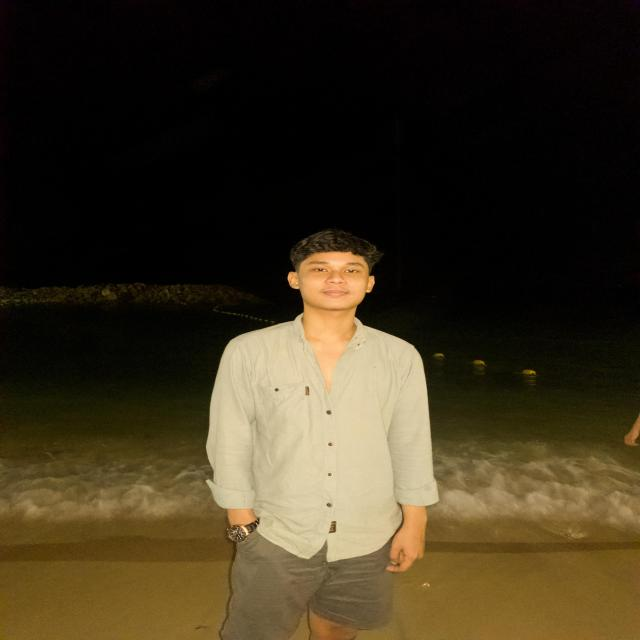nohelmet: (280, 229, 379, 305)
